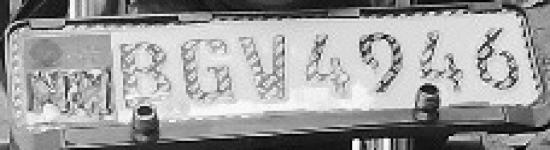4: (410, 26, 468, 94), (300, 28, 352, 102)
6: (470, 24, 523, 96)
9: (355, 25, 407, 99)
B: (117, 38, 170, 108)
G: (177, 32, 236, 106)
N: (22, 68, 73, 118)
V: (234, 30, 291, 109)
W: (72, 65, 116, 120)
